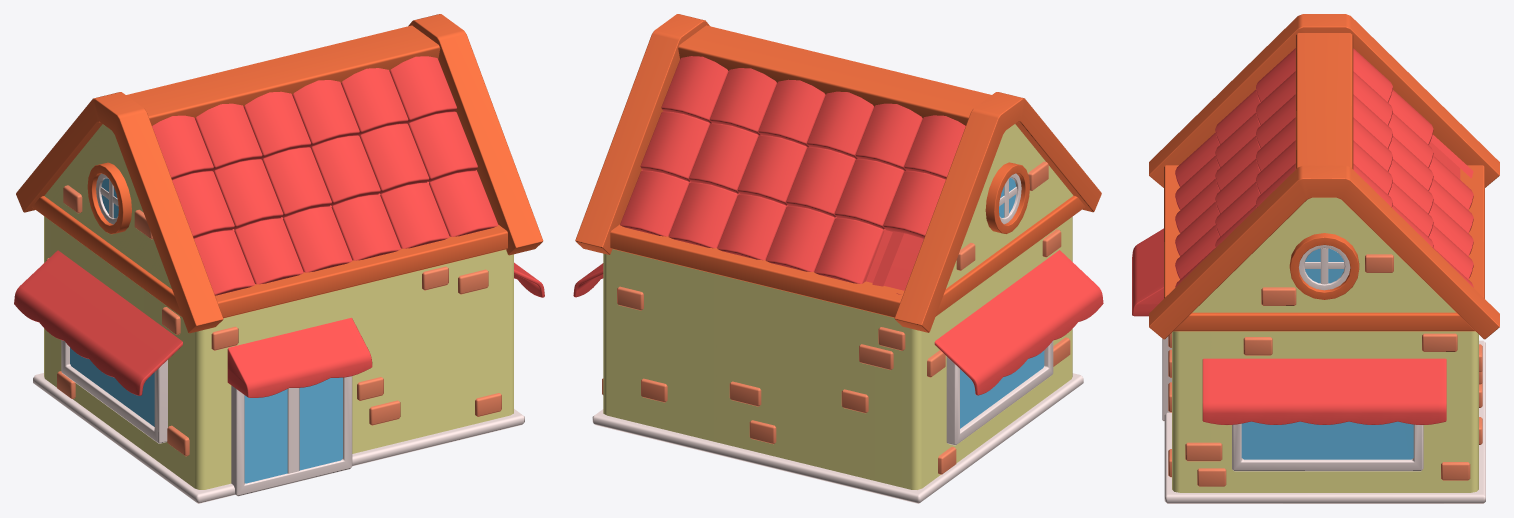
The model's file is Store_19_Farm_Market_1.glb.
The picture shows the model from 3 angles, left to right: view 1: azimuth 30°, elevation 25°; view 2: azimuth 150°, elevation 25°; view 3: azimuth 270°, elevation 25°; orthographic projection. The views are drawn at different scales.
Visible parts, largest first — view 1: Store_19_Farm_Market_1; view 2: Store_19_Farm_Market_1; view 3: Store_19_Farm_Market_1.
Boxes of the visible parts, x1,y1,x2,y2 form: Store_19_Farm_Market_1: (14,14,544,503); Store_19_Farm_Market_1: (573,14,1103,503); Store_19_Farm_Market_1: (1132,14,1499,503).
Bounding box in the file's own units: 7.75 × 6.22 × 6.26.
1 material, 1 textured.
